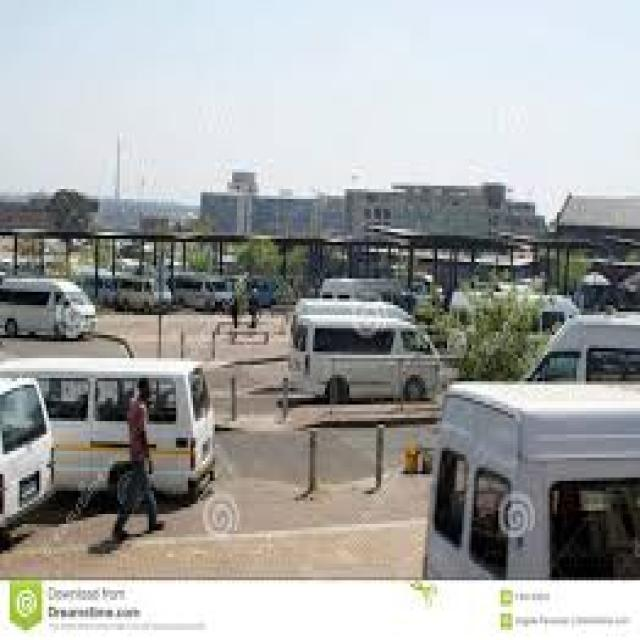MiniBus taxi: (2, 355, 220, 514), (288, 312, 447, 408), (3, 262, 100, 338)
